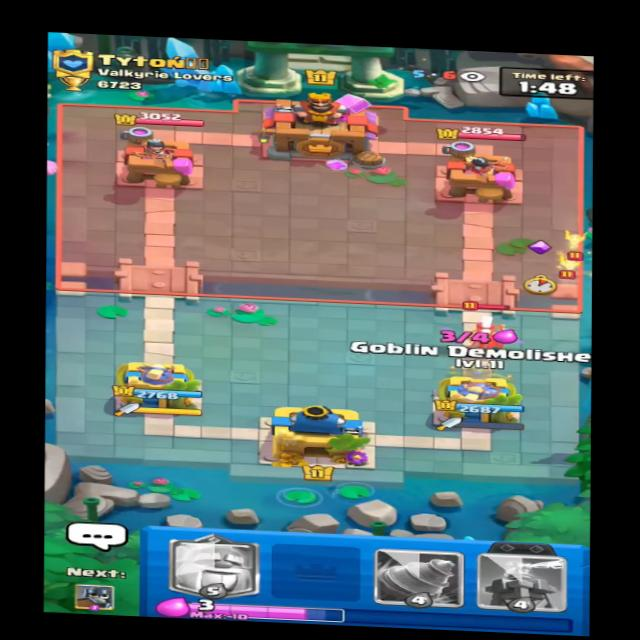Nightwitch: (459, 304, 516, 359)
